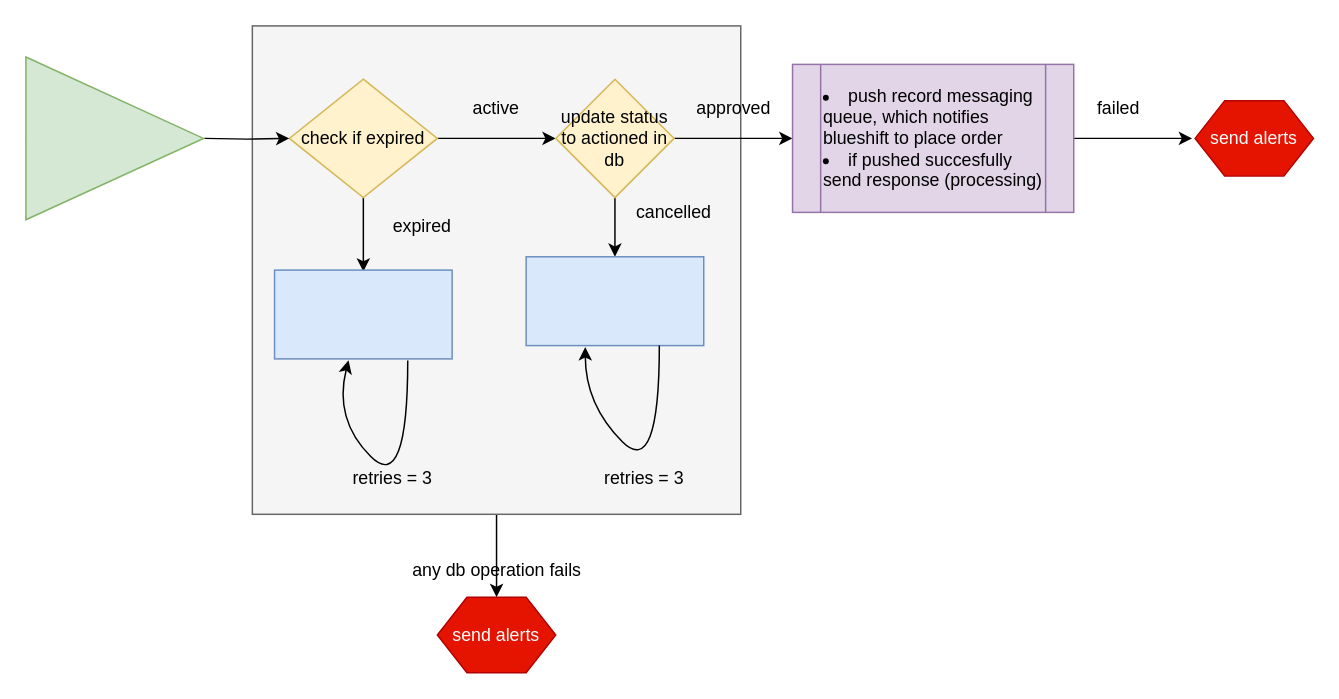
This 1339x699 diagram has some shape labels left out. The centre of each missing label's shape, as x and y in pixels:
"update status to expired respond with (cancelled)" belongs at (614,300).
"update user action to discarded in db respond with (expired)" belongs at (362,314).
"user acts on trade" belongs at (114,138).
